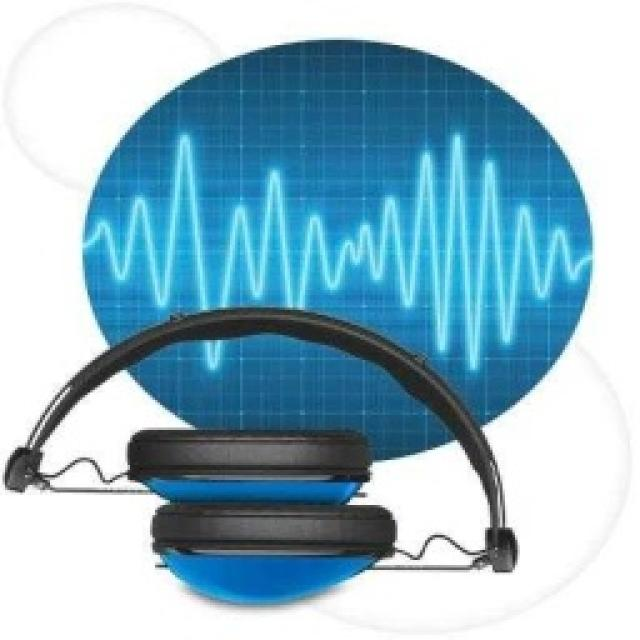headphones: (2, 303, 518, 605)
